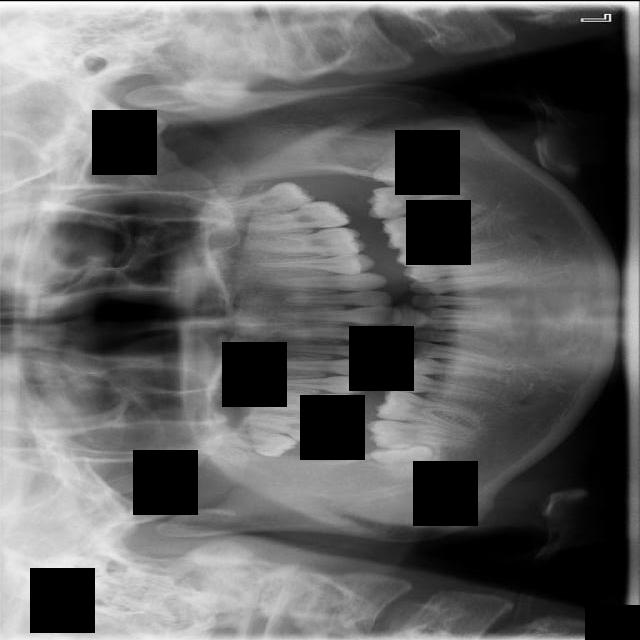3M ESPE Implant: (213, 418, 300, 462)
73: (561, 26, 575, 34)
BioHorizons Implant: (229, 198, 354, 235)
BioLife Implant: (204, 176, 317, 226)
Biomet 3i Implant: (371, 137, 442, 196)
Blue Sky Bio Implant: (366, 186, 467, 218)
Caries: (238, 410, 343, 446)
Implant: (364, 419, 467, 449)
Keystone Dental Implant: (369, 437, 437, 486)
